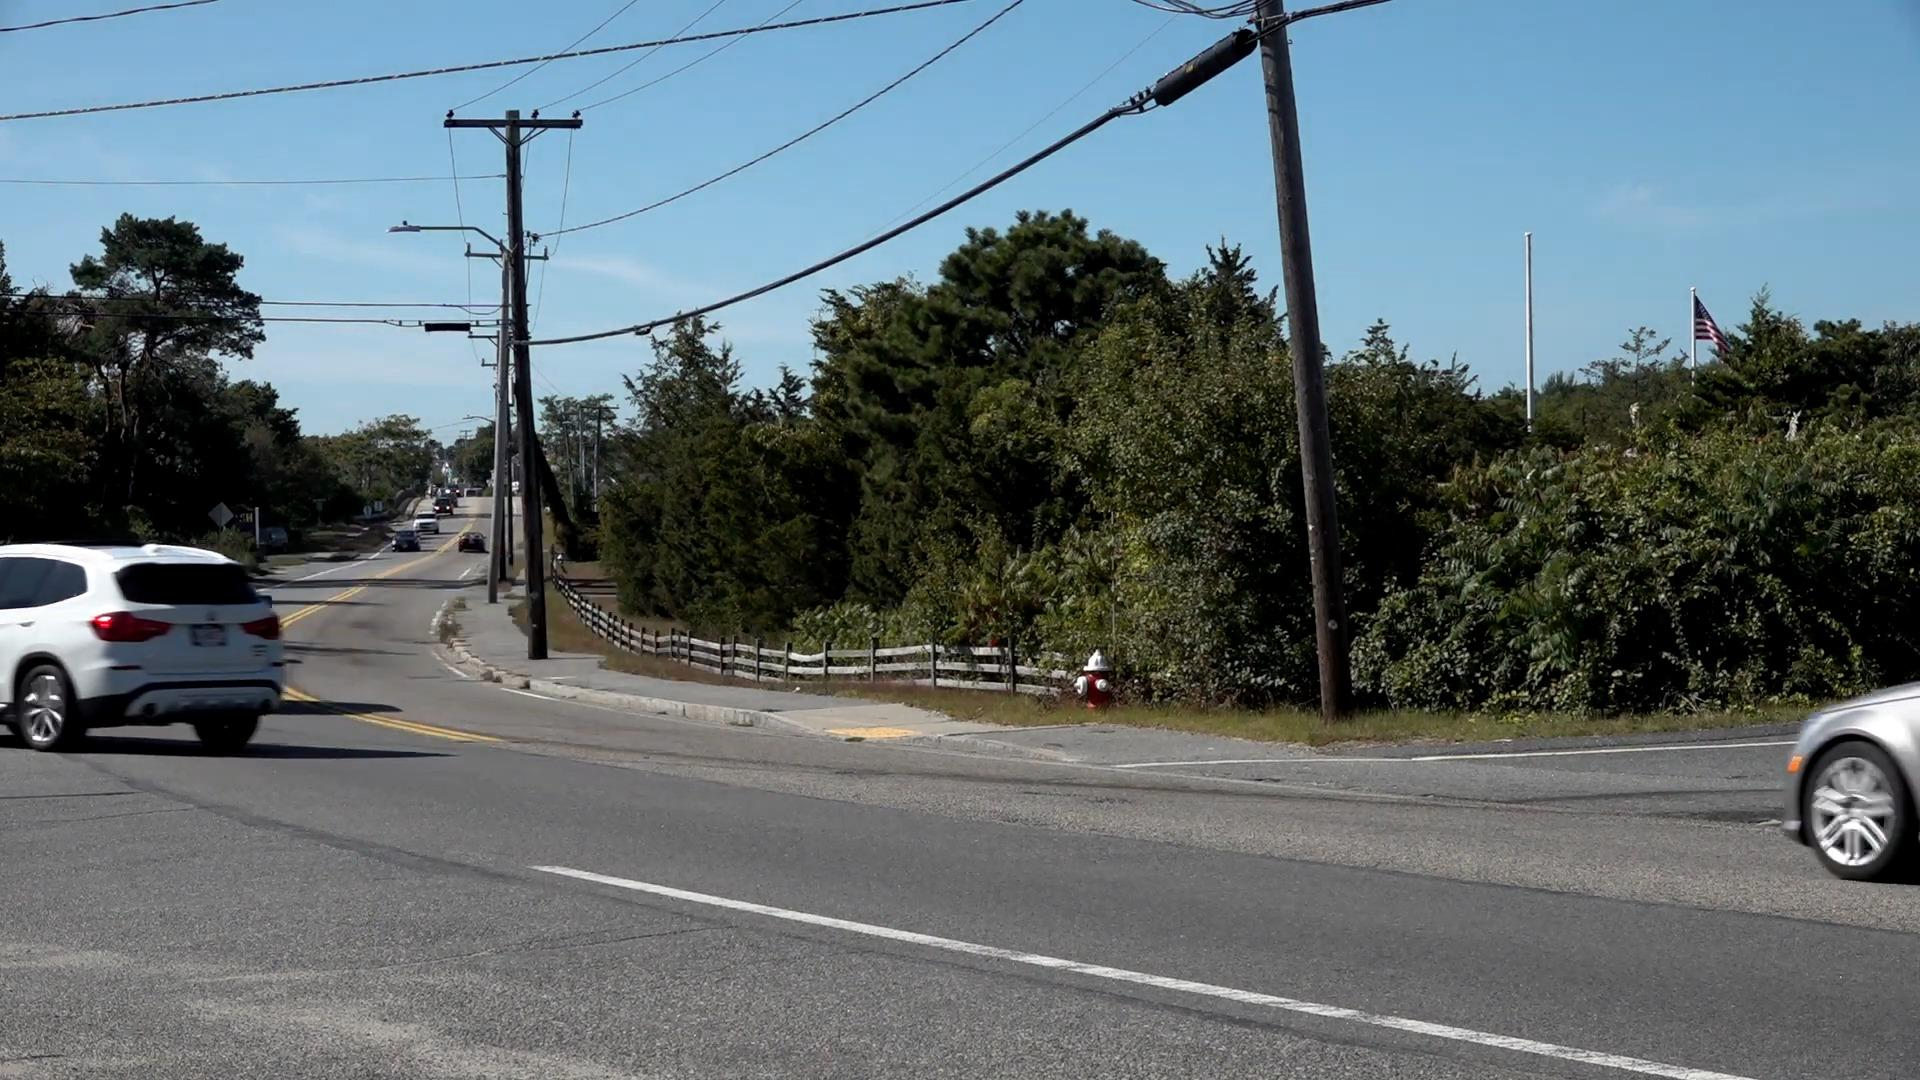sedans: (1790, 673, 1920, 881)
suv: (0, 546, 287, 759)
